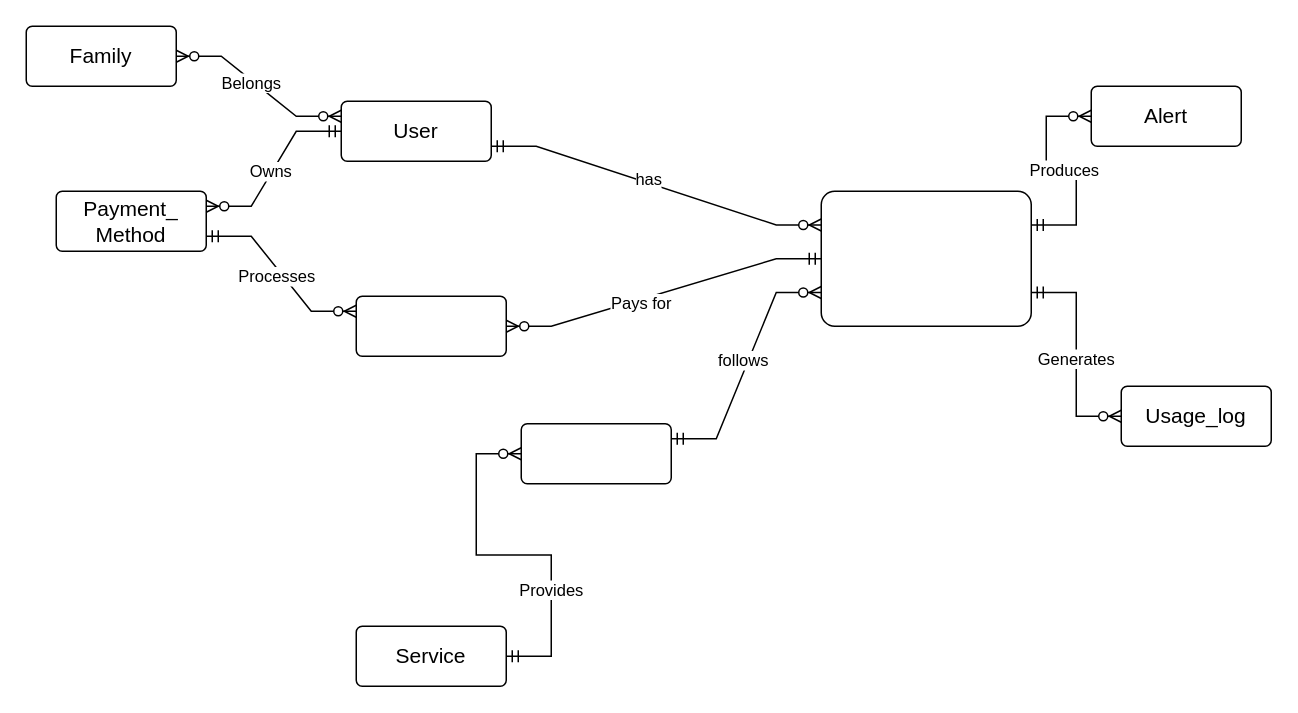
Image size: 1298x713. Some labels were removed from this diagram. Here are the shapes that lost their labels. From the top down, the box of each, then its label:
(820, 190, 1031, 326): User_Subscription
(355, 295, 506, 356): Payment
(520, 422, 671, 484): Plan
